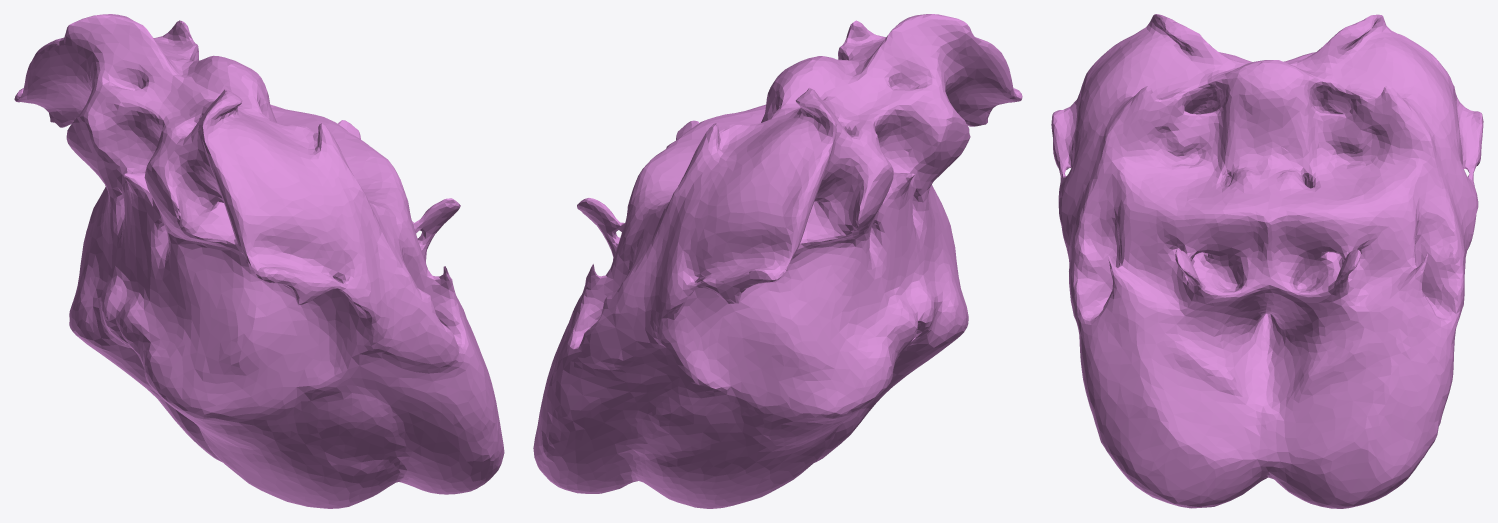
3 views of the same model, side by side, from view 1: azimuth 30°, elevation 25°; view 2: azimuth 150°, elevation 25°; view 3: azimuth 270°, elevation 25° (orthographic). The views are drawn at different scales.
Visible parts, largest first — view 1: 313.obj; view 2: 313.obj; view 3: 313.obj.
Boxes of the visible parts, x1,y1,x2,y2 form: 313.obj: [14, 14, 504, 508]; 313.obj: [533, 14, 1022, 508]; 313.obj: [1051, 14, 1483, 508].
Size of the model in its own units: 3729 by 5089 by 5076.
